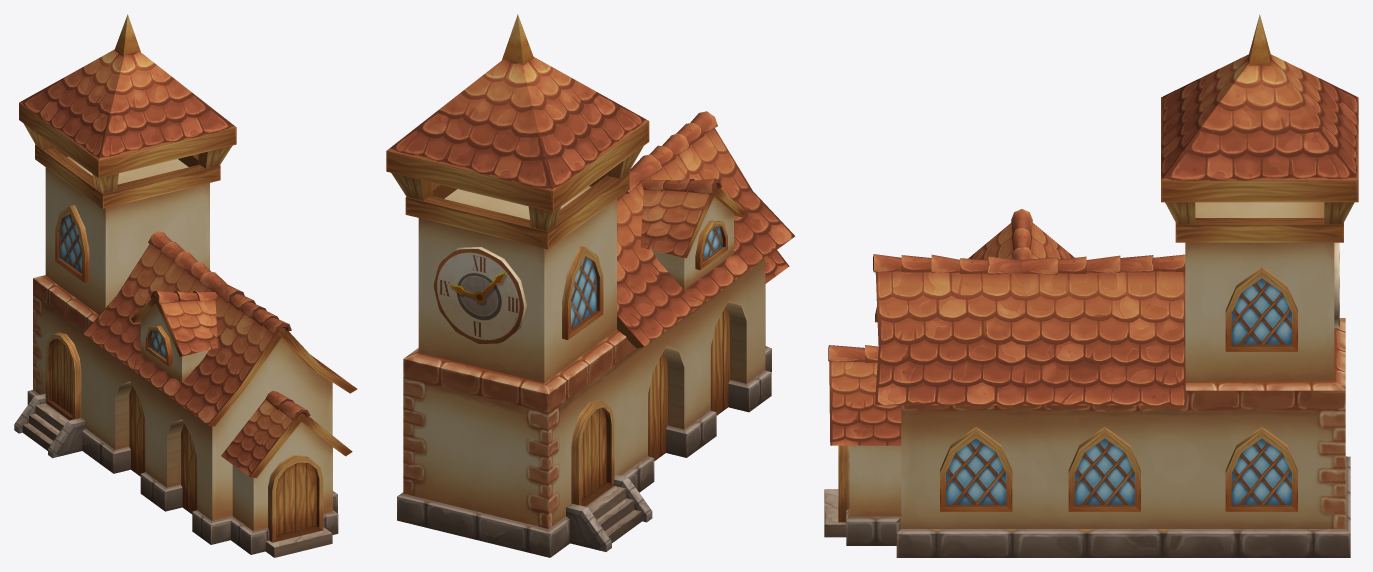
Rendered from Town_Hall.FBX.
The picture shows the model from 3 angles, left to right: view 1: azimuth 30°, elevation 25°; view 2: azimuth 150°, elevation 25°; view 3: azimuth 270°, elevation 25°; orthographic projection. The views are drawn at different scales.
Parts seen in each view (by area): view 1: Town_Hall; view 2: Town_Hall; view 3: Town_Hall.
Part boxes in pixels (left/top/right/bottom): Town_Hall: left=14, top=14, right=357, bottom=557; Town_Hall: left=386, top=14, right=795, bottom=557; Town_Hall: left=824, top=14, right=1358, bottom=557.
Size of what is drawn, in the model's own units: 606 by 1348 by 1408.
